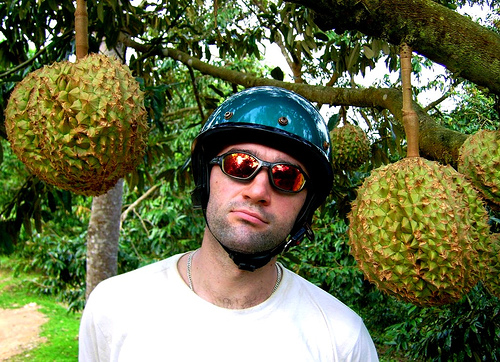helmet: (204, 84, 335, 189)
